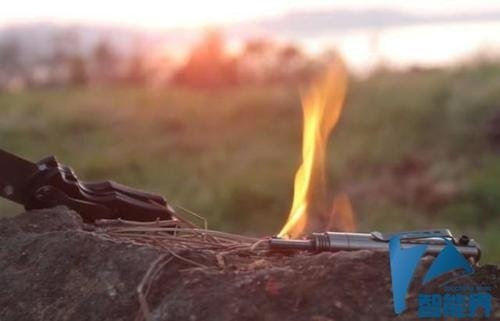fire: (277, 44, 354, 237)
